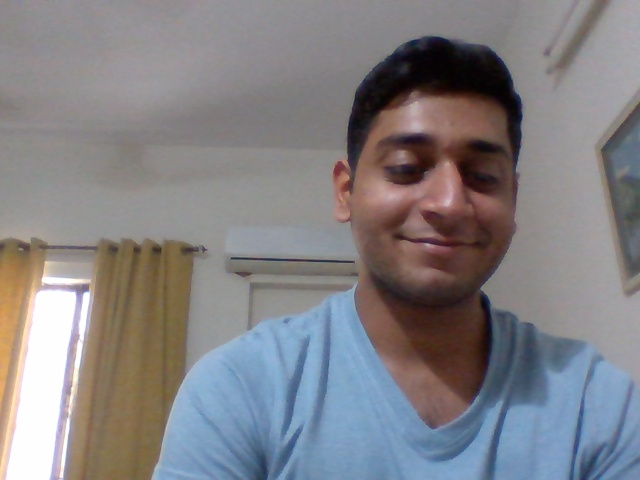happy: (377, 63, 525, 312)
